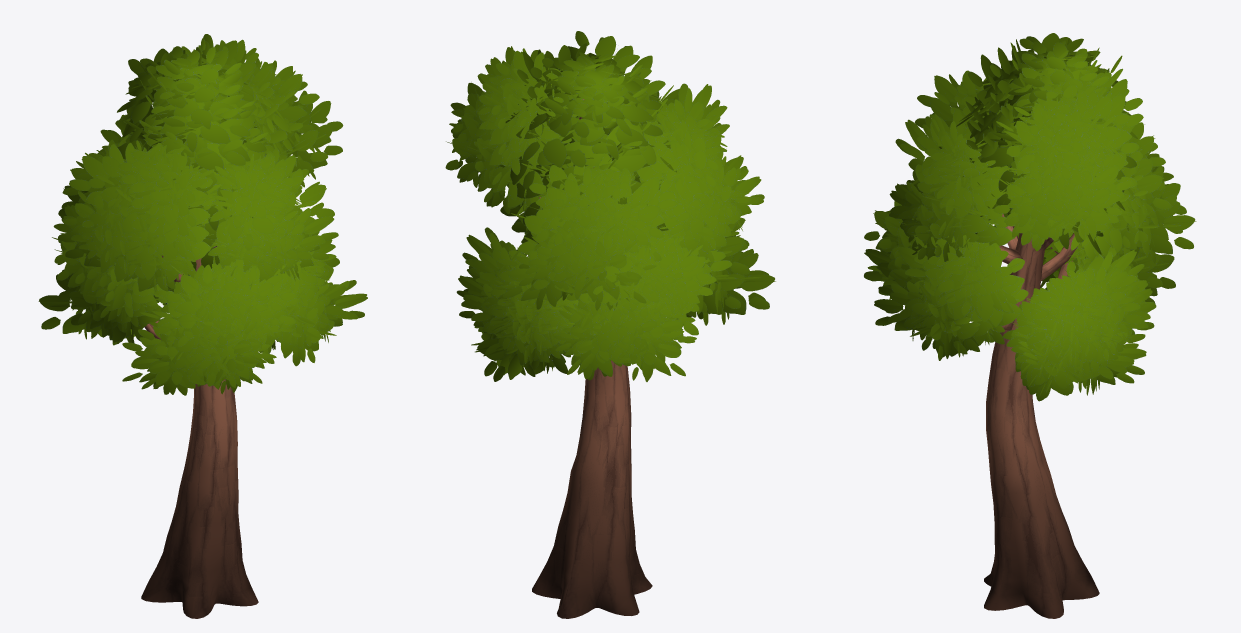
Rendered from CommonTree_1.glb.
3 views of the same model, side by side, from view 1: azimuth 30°, elevation 25°; view 2: azimuth 150°, elevation 25°; view 3: azimuth 270°, elevation 25° (orthographic). The views are drawn at different scales.
Parts seen in each view (by area): view 1: CommonTree_1; view 2: CommonTree_1; view 3: CommonTree_1.
Boxes of the visible parts, <box> form: CommonTree_1: <box>38,34,367,618</box>; CommonTree_1: <box>445,31,775,618</box>; CommonTree_1: <box>864,33,1196,618</box>.
Size of the model in its own units: 4.31 by 7.26 by 4.58.
2 materials, 2 textured.
